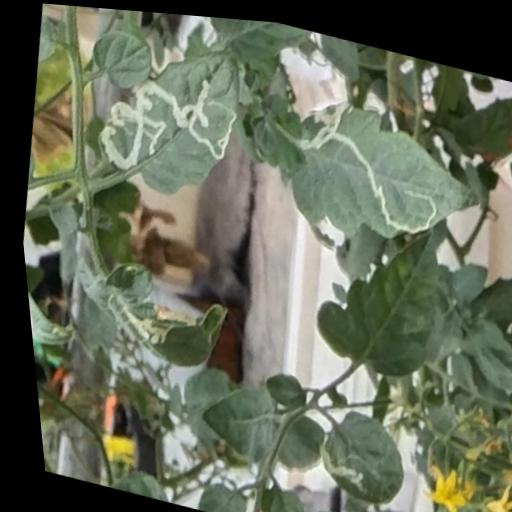Healthy: (180, 365, 275, 461), (81, 21, 155, 93)
Leaf_Miner: (269, 83, 489, 259), (78, 15, 255, 208), (53, 245, 232, 376), (298, 396, 406, 506), (21, 279, 73, 356)
